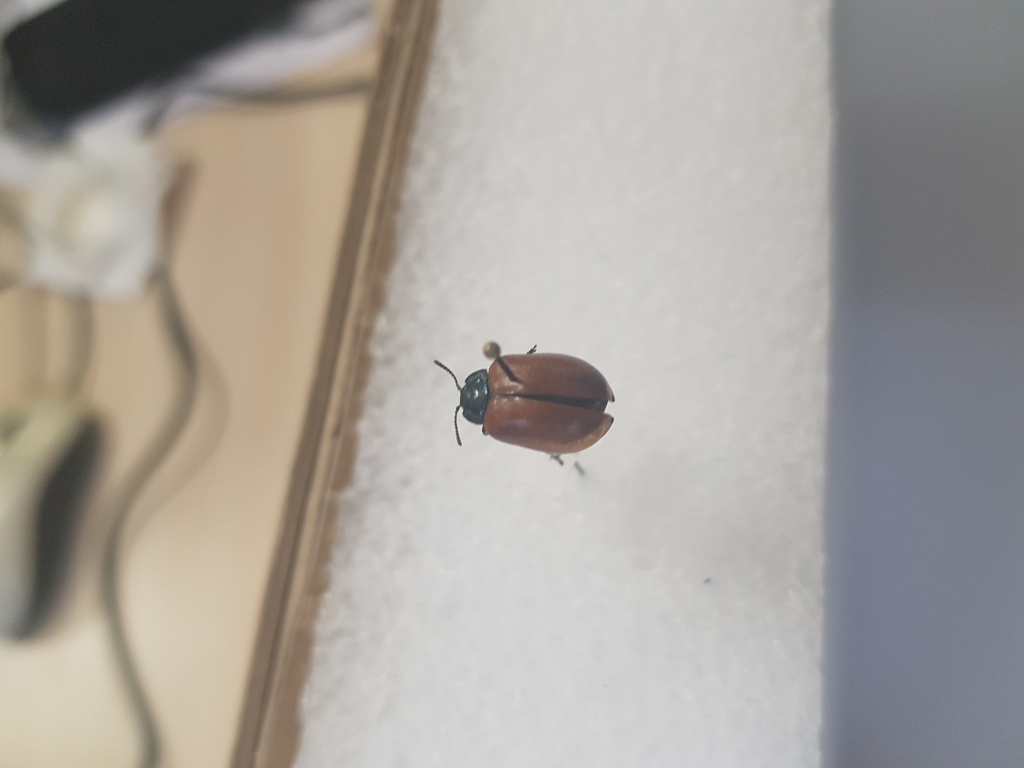Chrysomela_populi: (426, 351, 616, 474)
